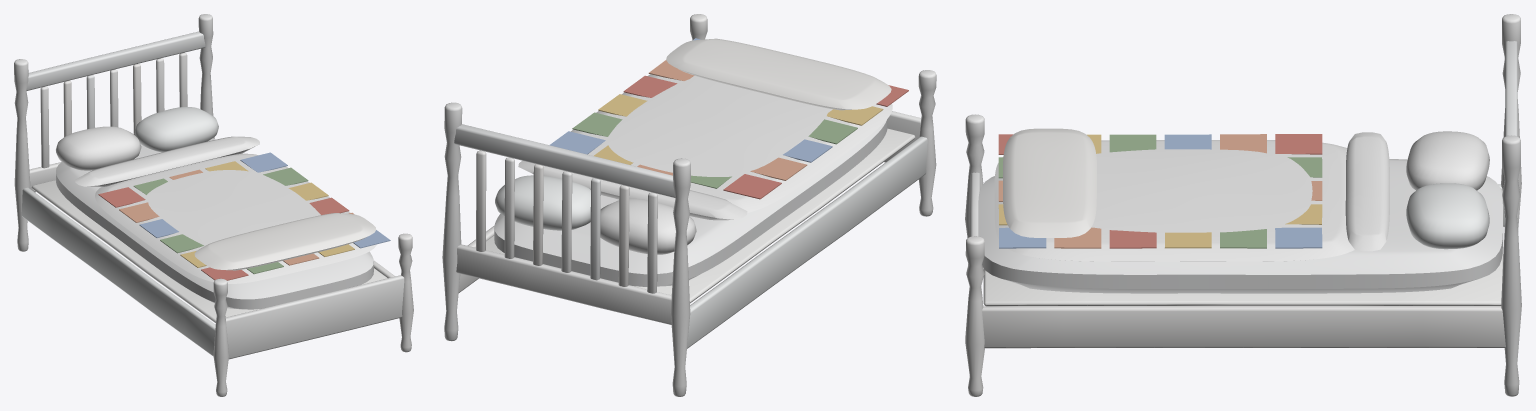
Rendered from bed_backroom.glb.
3 views of the same model, side by side, from view 1: azimuth 30°, elevation 25°; view 2: azimuth 150°, elevation 25°; view 3: azimuth 270°, elevation 25° (orthographic). The views are drawn at different scales.
Visible parts, largest first — view 1: wood, quilt, linen, patch, throw; view 2: wood, quilt, linen, throw, patch; view 3: wood, linen, quilt, patch, throw.
Part boxes in pixels (x1,y1,x2,y2): wood: [14, 14, 413, 396]; quilt: [75, 136, 376, 283]; linen: [56, 107, 373, 309]; patch: [98, 152, 390, 280]; throw: [194, 213, 376, 270]; wood: [442, 14, 936, 396]; quilt: [518, 74, 892, 220]; linen: [494, 119, 887, 286]; throw: [666, 38, 891, 110]; patch: [549, 38, 908, 199]; wood: [965, 14, 1521, 396]; linen: [978, 131, 1502, 293]; quilt: [994, 132, 1389, 261]; patch: [998, 134, 1322, 248]; throw: [1003, 128, 1096, 237].
Bounding box in the file's own units: 1.12 × 1.02 × 2.02.
